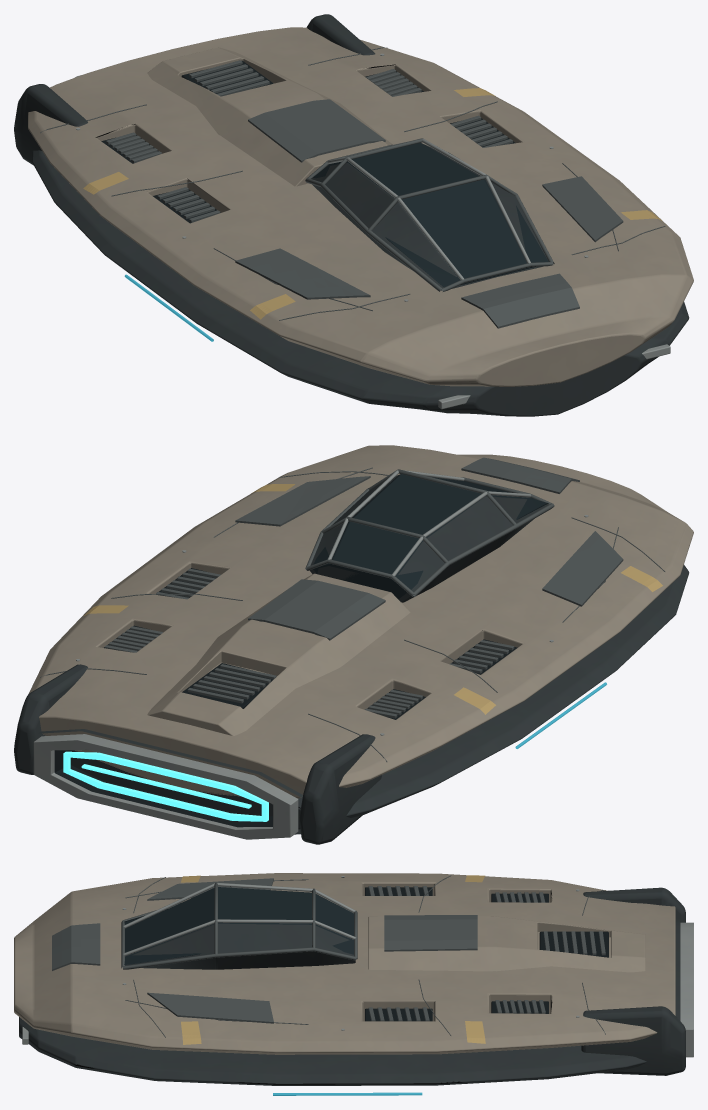
The model's file is mule.glb.
3 renders of one model, top to bottom at view 1: azimuth 30°, elevation 25°; view 2: azimuth 150°, elevation 25°; view 3: azimuth 270°, elevation 25°, orthographic. The views are drawn at different scales.
Parts seen in each view (by area): view 1: mule_Ceramic_Geometry, mule_carbon_Geometry, mule_edge_Geometry, mule_glass_Geometry, mule_metal_Geometry, mule_accent_Geometry, mule_vent_Geometry; view 2: mule_Ceramic_Geometry, mule_carbon_Geometry, mule_edge_Geometry, mule_metal_Geometry, mule_glass_Geometry, mule_Ion_Geometry, mule_vent_Geometry, mule_accent_Geometry; view 3: mule_Ceramic_Geometry, mule_carbon_Geometry, mule_edge_Geometry, mule_glass_Geometry, mule_metal_Geometry, mule_vent_Geometry, mule_accent_Geometry, mule_Induction_Geometry.
Boxes of the visible parts, left/top/right/bottom form: mule_Ceramic_Geometry: left=28, top=27, right=693, bottom=386; mule_carbon_Geometry: left=14, top=14, right=689, bottom=416; mule_edge_Geometry: left=40, top=47, right=665, bottom=328; mule_glass_Geometry: left=313, top=143, right=548, bottom=287; mule_metal_Geometry: left=75, top=53, right=670, bottom=409; mule_accent_Geometry: left=83, top=88, right=661, bottom=319; mule_vent_Geometry: left=101, top=60, right=515, bottom=223; mule_Ceramic_Geometry: left=28, top=445, right=693, bottom=798; mule_carbon_Geometry: left=14, top=475, right=689, bottom=844; mule_edge_Geometry: left=40, top=457, right=665, bottom=761; mule_metal_Geometry: left=33, top=470, right=588, bottom=839; mule_glass_Geometry: left=313, top=474, right=548, bottom=599; mule_Ion_Geometry: left=63, top=751, right=268, bottom=821; mule_vent_Geometry: left=54, top=568, right=517, bottom=827; mule_accent_Geometry: left=84, top=484, right=662, bottom=714; mule_Ceramic_Geometry: left=14, top=873, right=675, bottom=1054; mule_carbon_Geometry: left=19, top=887, right=685, bottom=1085; mule_edge_Geometry: left=52, top=875, right=605, bottom=1037; mule_glass_Geometry: left=124, top=887, right=353, bottom=964; mule_metal_Geometry: left=22, top=876, right=693, bottom=1057; mule_vent_Geometry: left=365, top=887, right=608, bottom=1021; mule_accent_Geometry: left=181, top=875, right=485, bottom=1044; mule_Induction_Geometry: left=273, top=1092, right=422, bottom=1095.
Size of the model in its own units: 3.64 by 1.25 by 5.91.
Materials: 9 (3 with a texture image).
